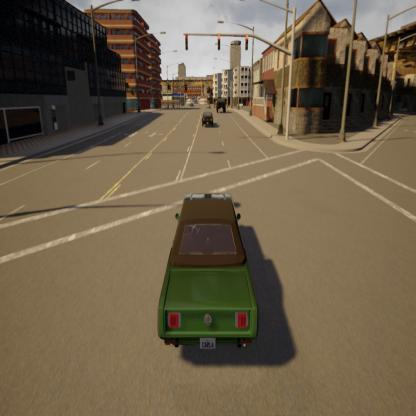Cars: (159, 191, 258, 352), (214, 95, 228, 116), (202, 110, 214, 126)
